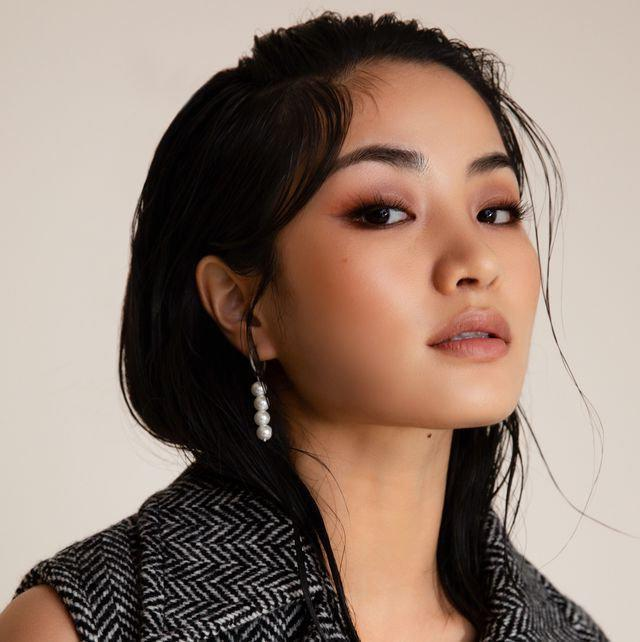Sober: (278, 83, 540, 425)
